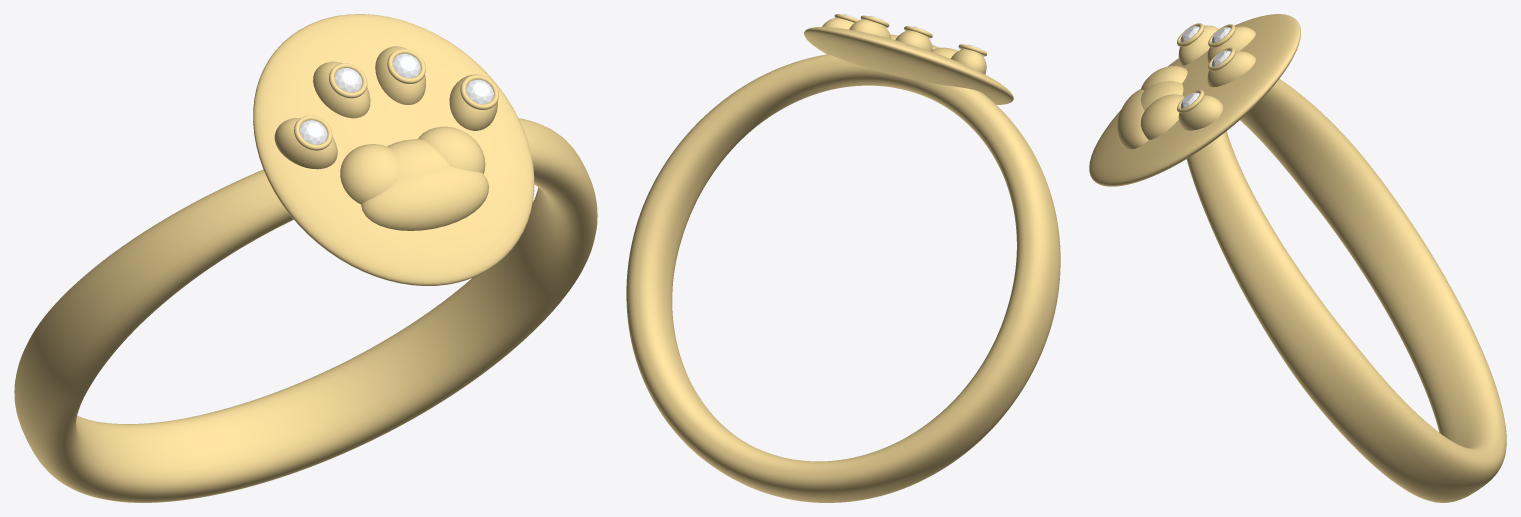
File: anillo.glb
3 views of the same model, side by side, from view 1: azimuth 30°, elevation 25°; view 2: azimuth 150°, elevation 25°; view 3: azimuth 270°, elevation 25° (orthographic). The views are drawn at different scales.
Visible parts, largest first — view 1: Anillo de huella; view 2: Anillo de huella; view 3: Anillo de huella.
Part boxes in pixels (<box>): Anillo de huella: <box>14,14,597,502</box>; Anillo de huella: <box>626,14,1060,502</box>; Anillo de huella: <box>1089,14,1506,502</box>.
Bounding box in the file's own units: 2.07 × 2 × 1.7.
